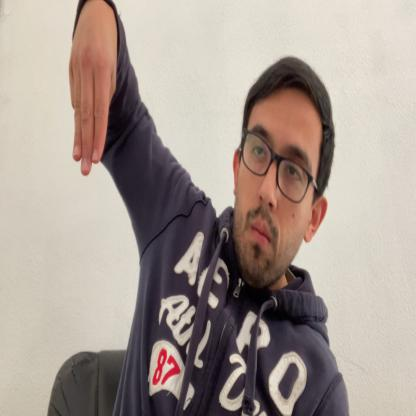M: (70, 7, 117, 176)
